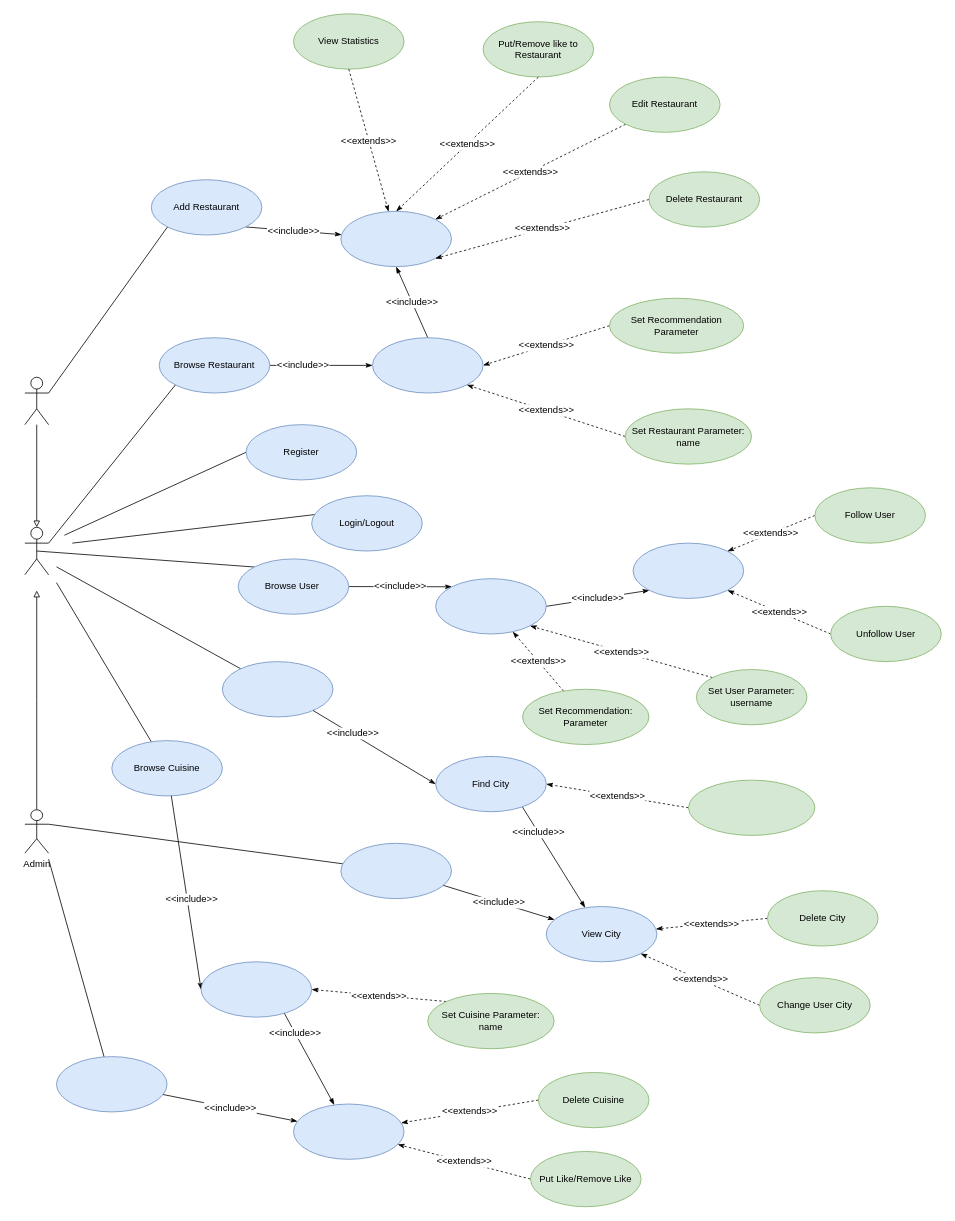
The diagram is 955 pixels wide and 1221 high, and some of its shapes have lost their labels. The shapes that lost their labels are listed below. From the top down, each one's centre as x and y in pixels, then its label:
At point 395,239: "View Restaurant".
At point 427,365: "Find Restaurant".
At point 36,400: "Restaurant Owner".
At point 36,551: "User".
At point 688,570: "View User".
At point 490,606: "Find User".
At point 277,689: "Browse City".
At point 751,807: "Set Location Parameter: name".
At point 395,871: "Add City".
At point 256,989: "Find Cuisine".
At point 111,1084: "Add Cuisine".
At point 348,1131: "View Cuisine".
